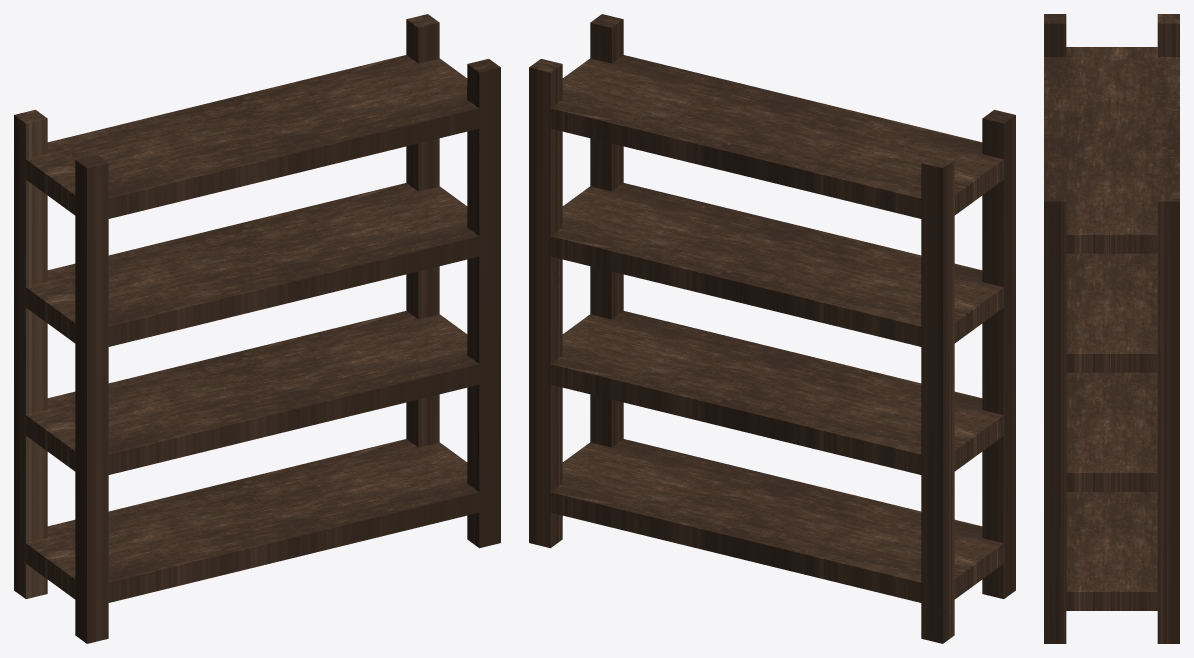
Rendered from shelf.fbx.
The picture shows the model from 3 angles, left to right: view 1: azimuth 30°, elevation 25°; view 2: azimuth 150°, elevation 25°; view 3: azimuth 270°, elevation 25°; orthographic projection. The views are drawn at different scales.
Visible parts, largest first — view 1: shelf; view 2: shelf; view 3: shelf.
Boxes of the visible parts, x1,y1,x2,y2 form: shelf: (14,14,500,643); shelf: (529,14,1015,643); shelf: (1044,14,1179,643).
Size of the model in its own units: 272 by 298 by 82.99.
